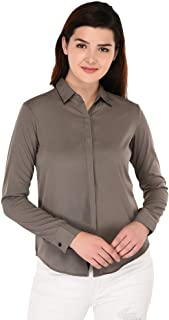shirt: (1, 79, 167, 273)
